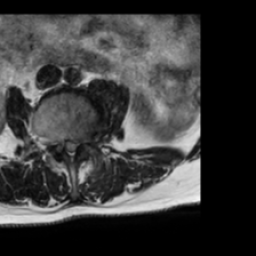CCS_normal: (66, 133, 74, 167)
LFS_severe_stenosis: (81, 129, 89, 151)
LLS_severe_stenosis: (74, 133, 81, 158)
RFS_severe_stenosis: (51, 131, 59, 154)
RLS_severe_stenosis: (59, 131, 66, 157)
